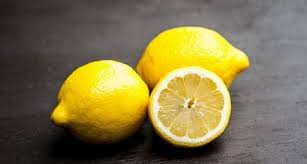Lemon: (134, 17, 254, 95), (49, 56, 153, 136)
